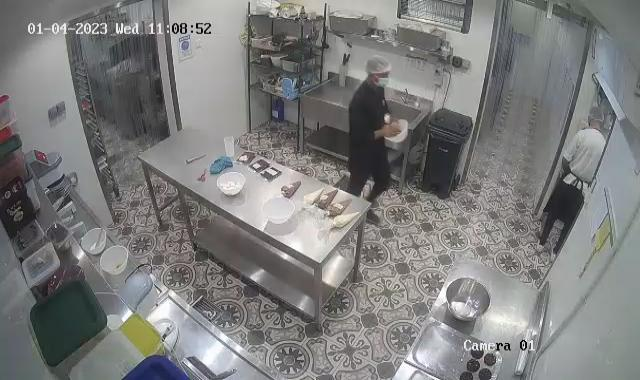hairnet: (363, 56, 393, 86), (586, 103, 606, 128)
